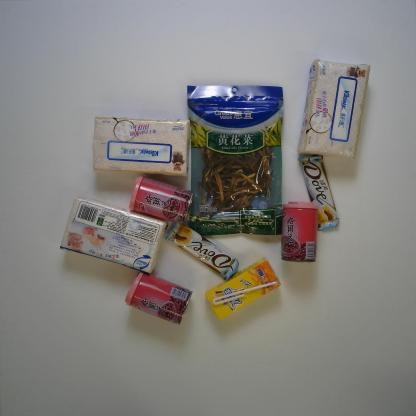Canned Food: (124, 271, 193, 326), (129, 176, 194, 226), (280, 200, 320, 263)
Chocolate: (164, 221, 239, 283), (295, 148, 340, 232)
Dried Food: (186, 84, 285, 235)
Drink: (205, 256, 282, 322)
Tissue: (60, 196, 166, 275), (296, 58, 370, 160), (92, 116, 190, 178)
